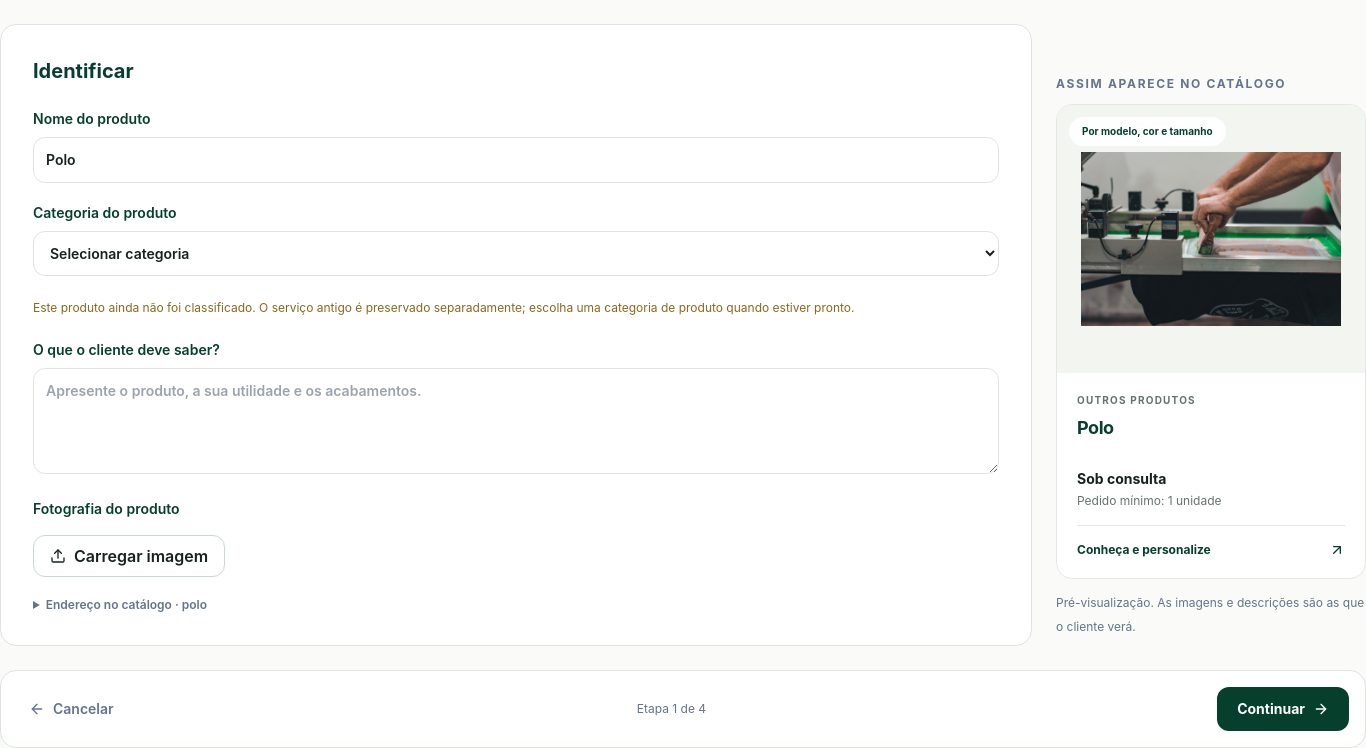
Scenario: Unified product editor › shows only apparel sizes and preserves the configuration through navigation
(page scrolled)
Click the button "Continuar" at [1283, 709], box 1217,687 -> 1349,731
(page scrolled)
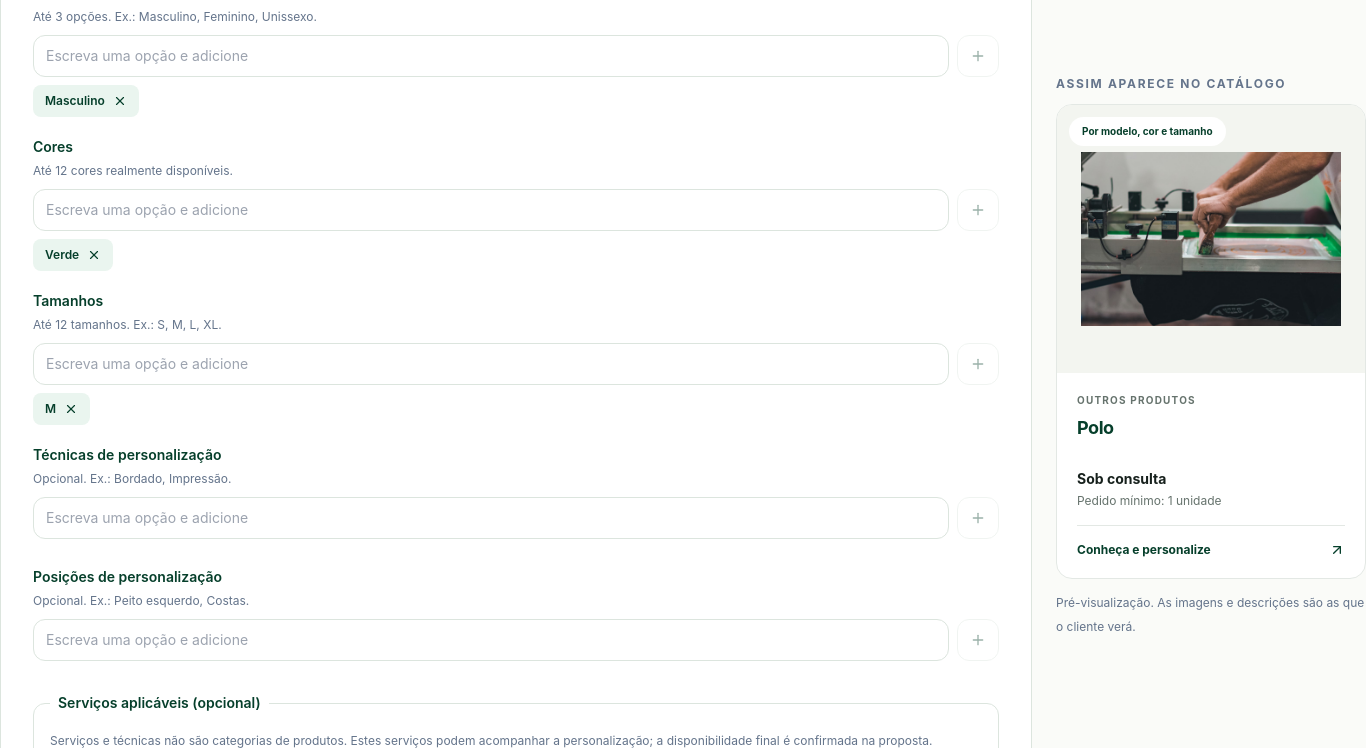
Type "L" into the field labelled "Tamanhos" at [491, 364], box 33,343 -> 949,385
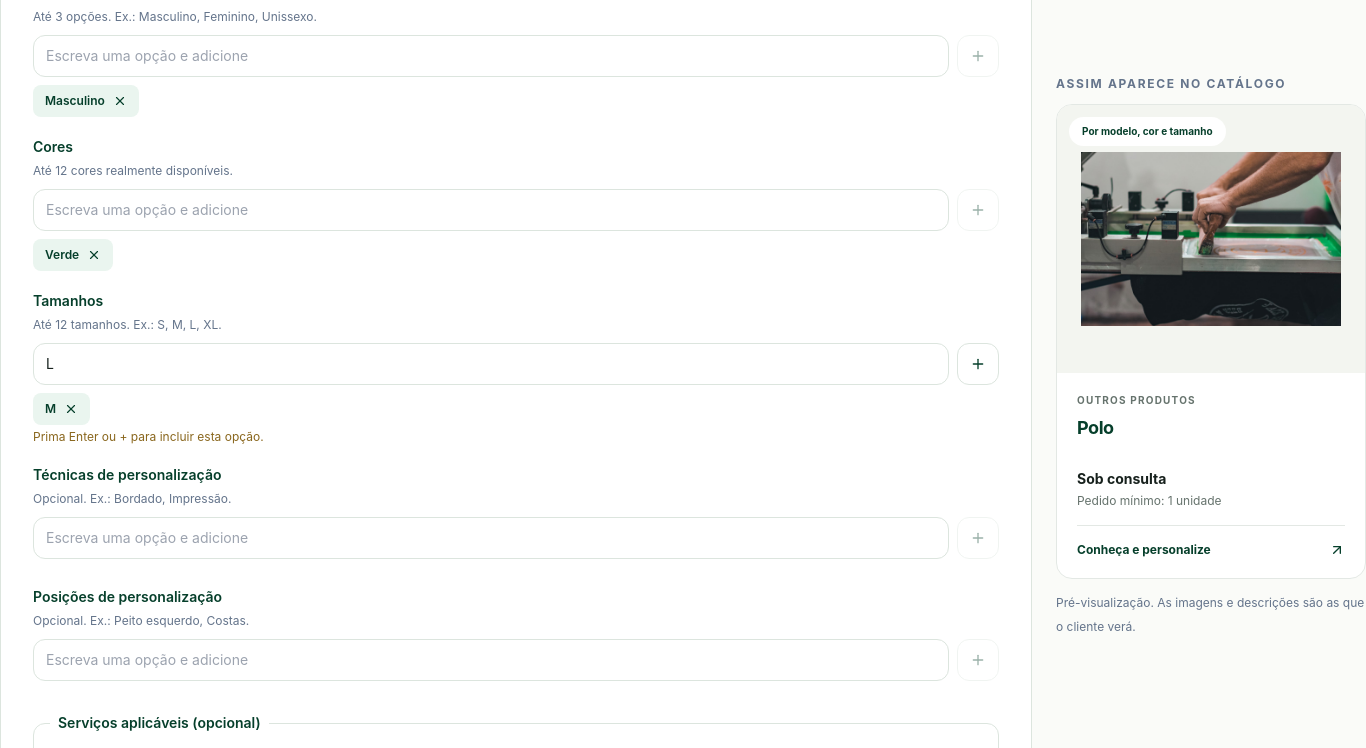
Click the button named "Adicionar: Tamanhos" at [978, 364], box 957,343 -> 999,385
(page scrolled)
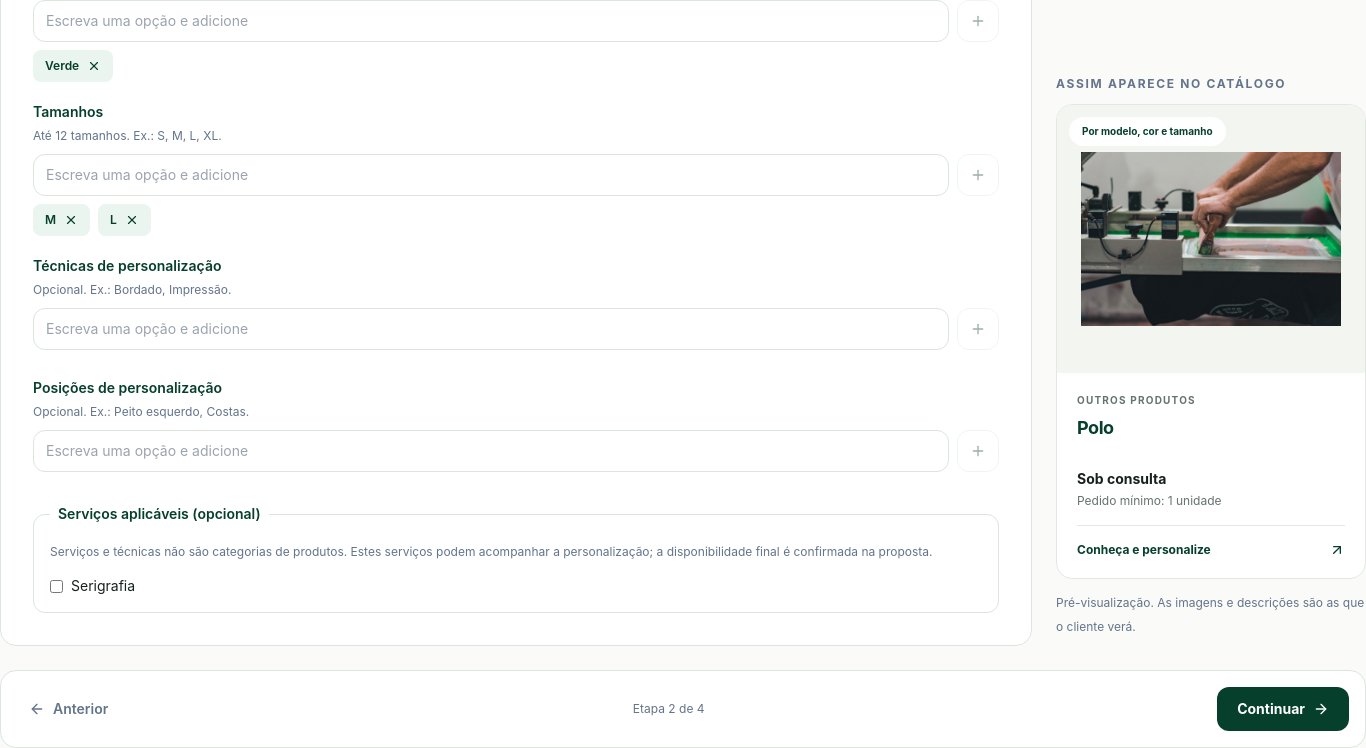
Click the button "Continuar" at [1283, 709], box 1217,687 -> 1349,731
(page scrolled)
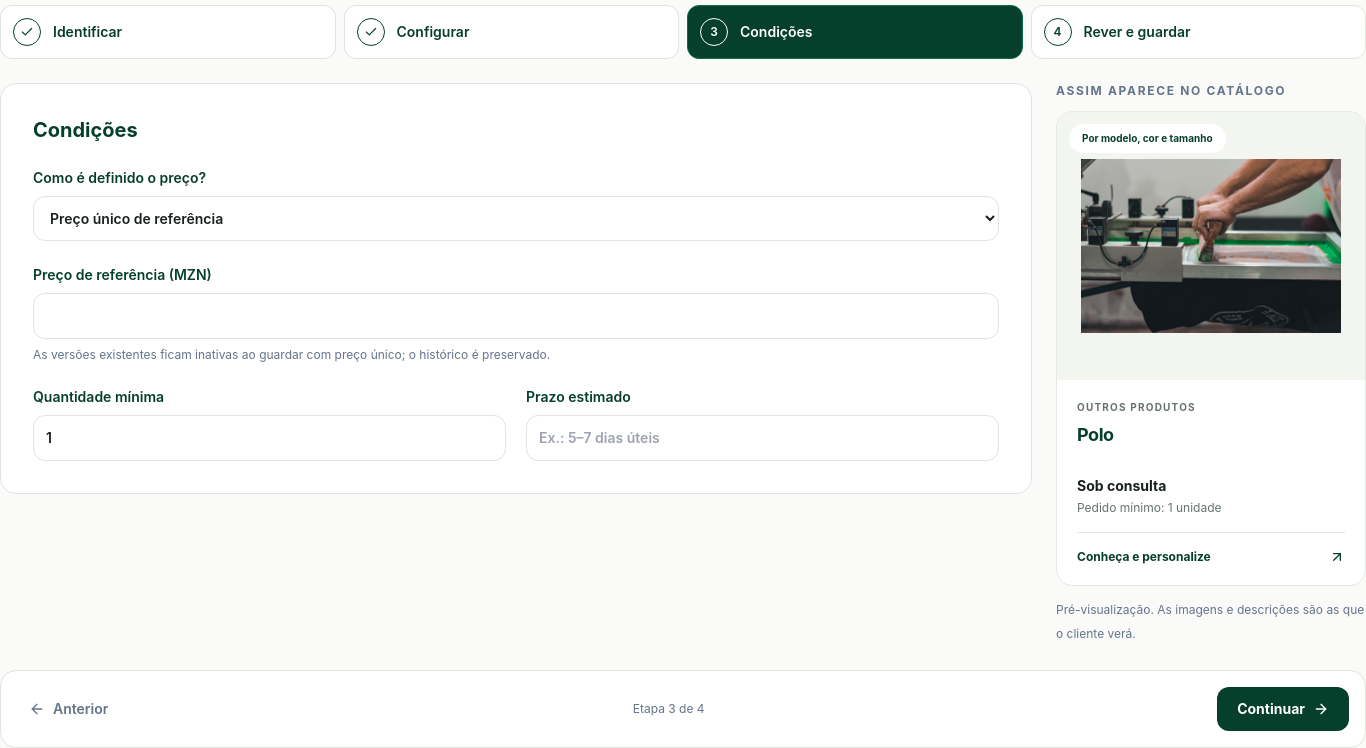
Click the button "Anterior" at [69, 709], box 17,691 -> 120,727
(page scrolled)
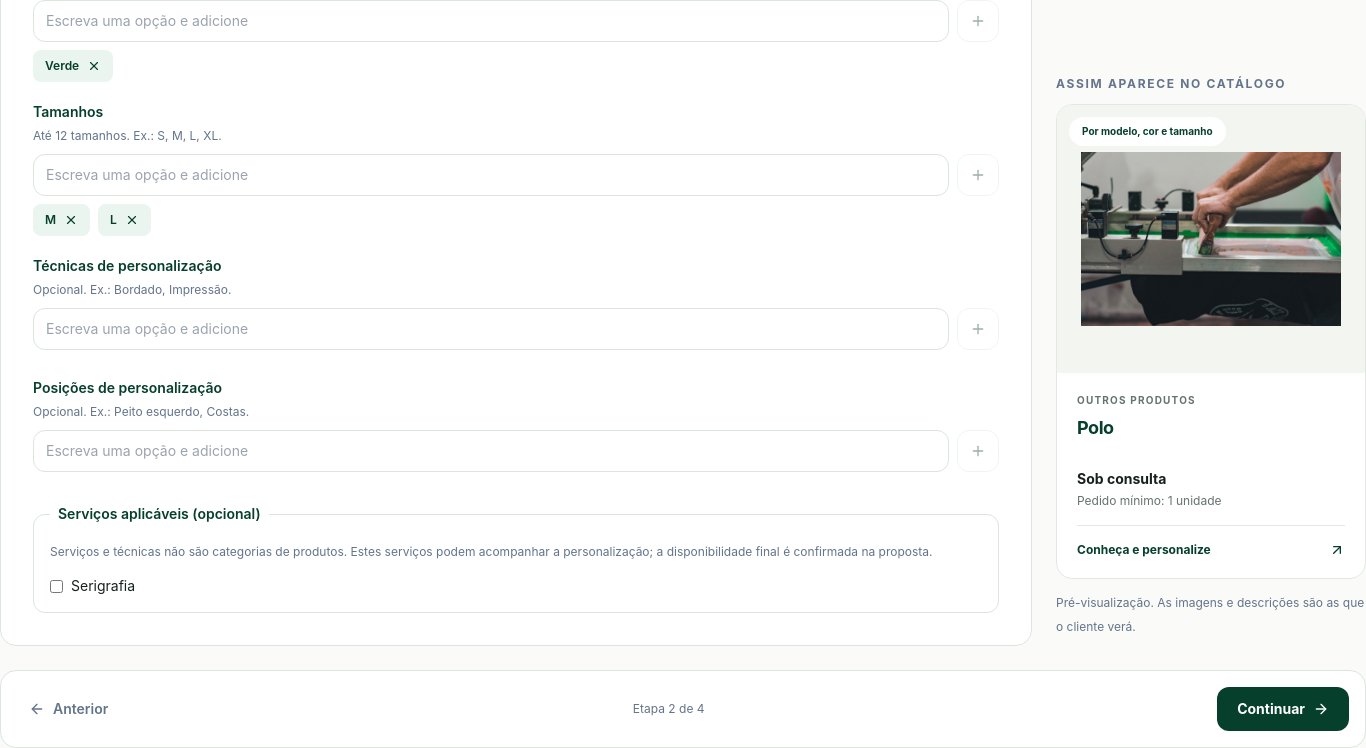
Expected: the text "L" is shown, 98,204 -> 151,236
